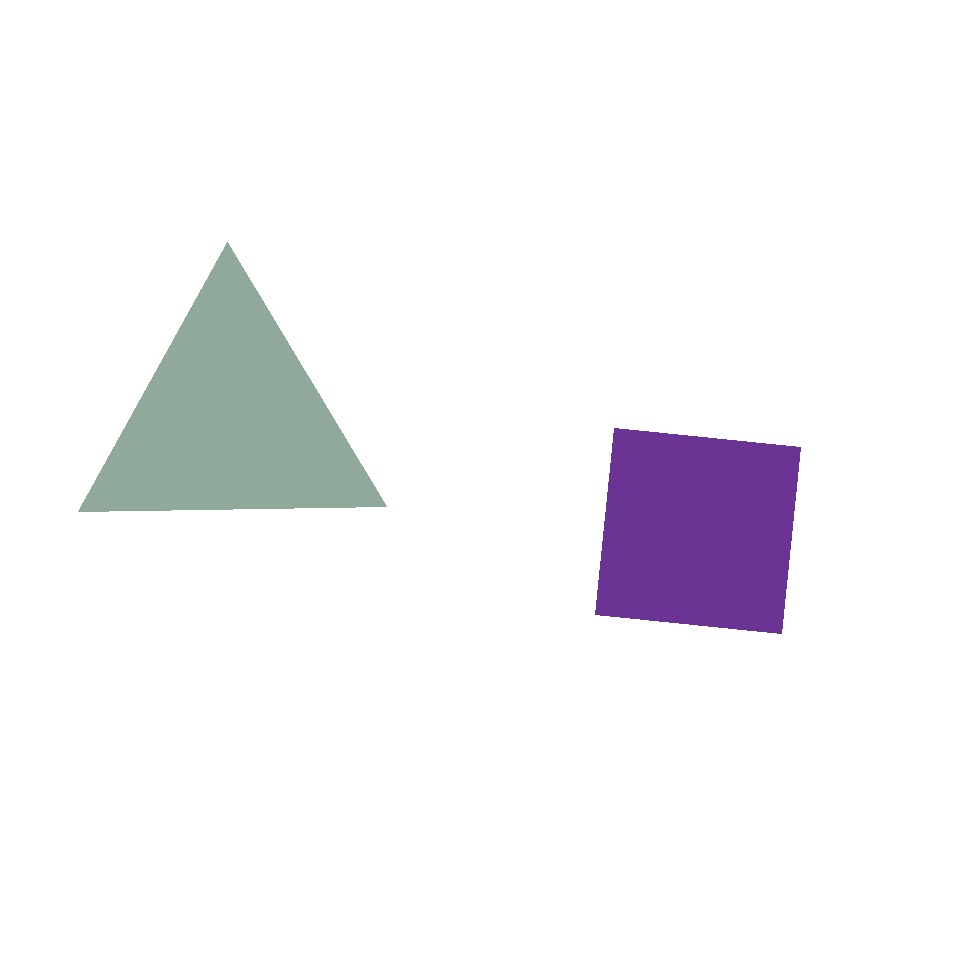circle: (77, 286, 385, 554), (326, 599, 596, 903)
square: (302, 92, 542, 334), (595, 428, 800, 634)
triangle: (404, 280, 780, 656), (621, 30, 939, 348), (516, 450, 818, 753)
